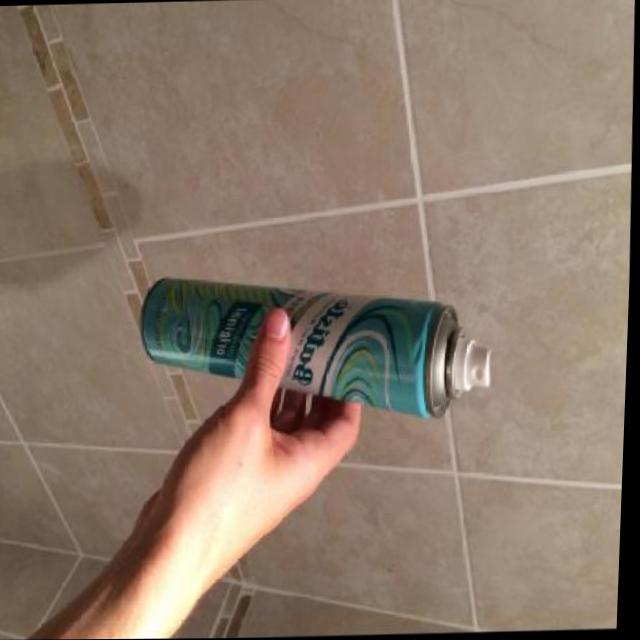metal: (132, 268, 498, 430)
